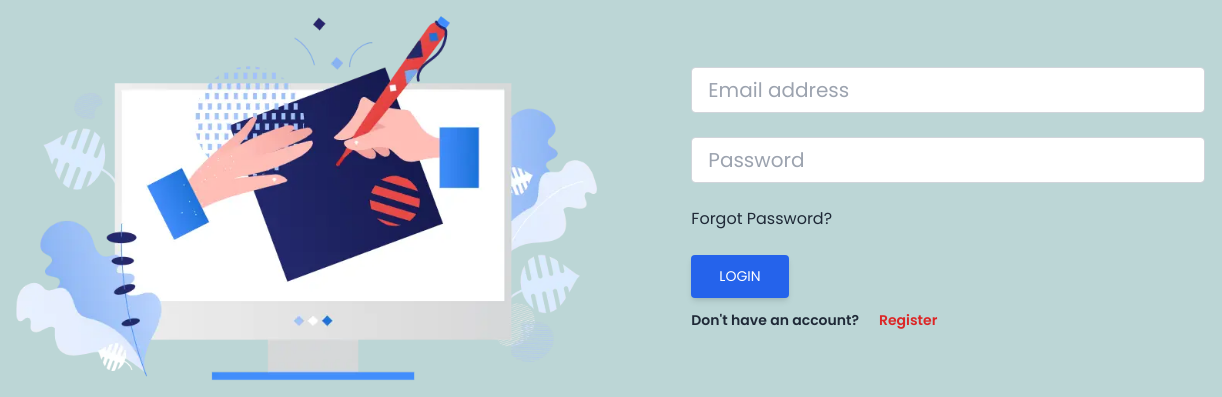
Test: Login › lỗi mạng: hiện fallback thay vì ném TypeError trong catch
This screenshot has width=1222, height=397.
Type "a@b.c" into the field labelled "Email address" at (948,90), box top-left (691, 67), bottom-right (1205, 113)
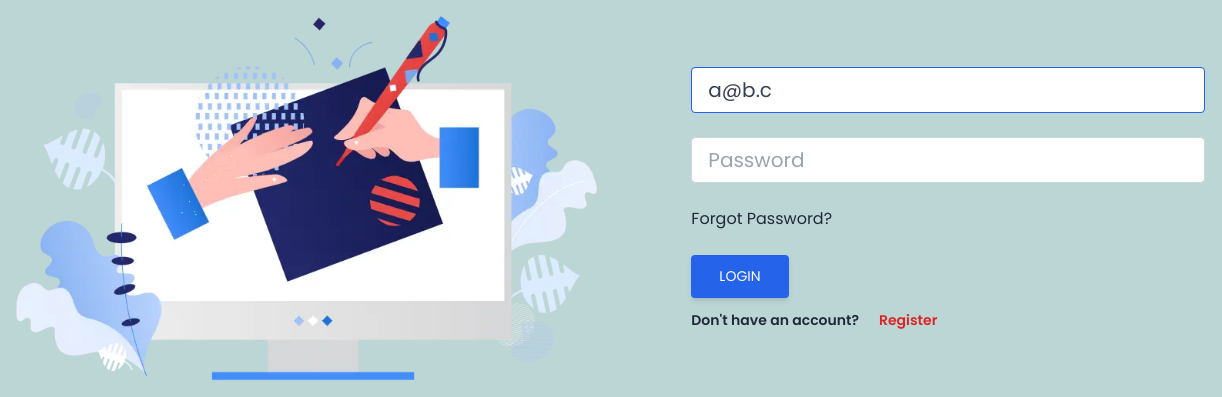
Type "secret" into the password field labelled "Password" at (948,160), box top-left (691, 137), bottom-right (1205, 183)
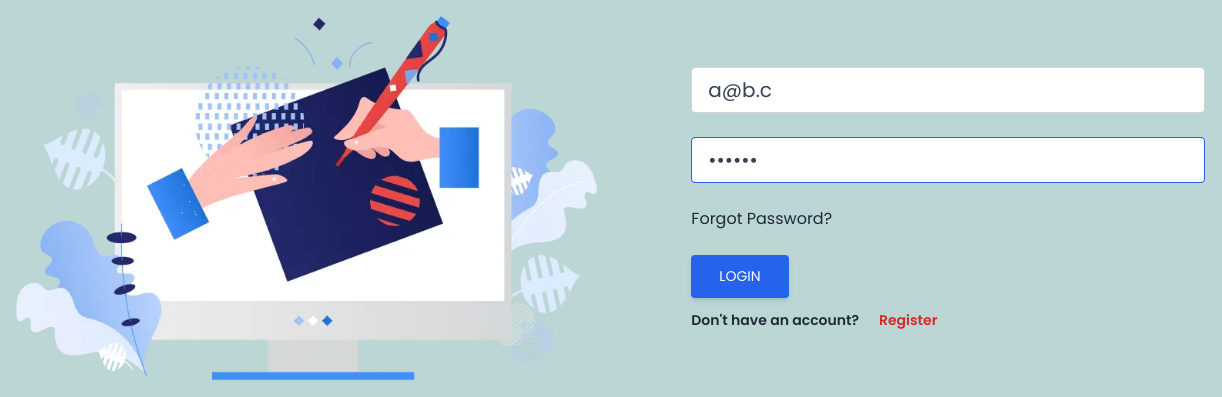
Click the button "Login" at (740,277), box top-left (691, 255), bottom-right (788, 298)
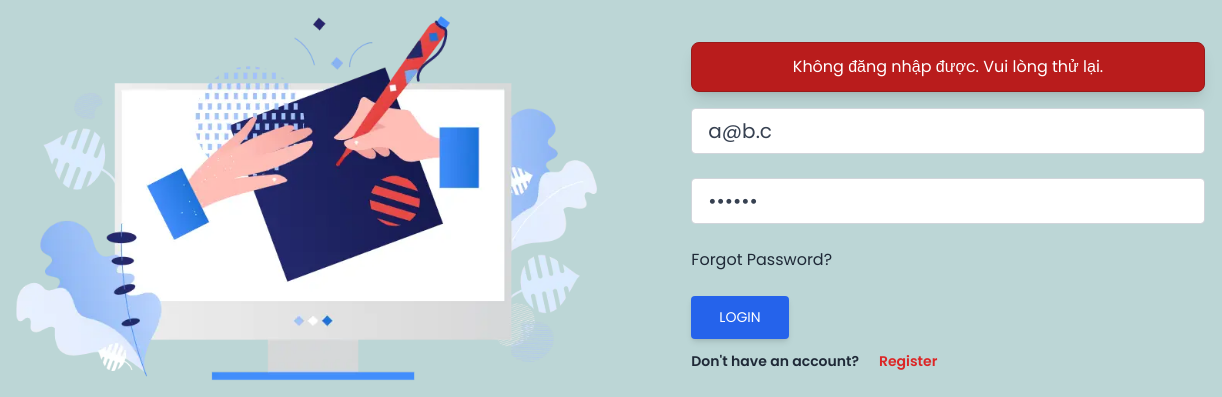
Now the message reads "Không đăng nhập được. Vui lòng thử lại.", box top-left (793, 55), bottom-right (1103, 78)
